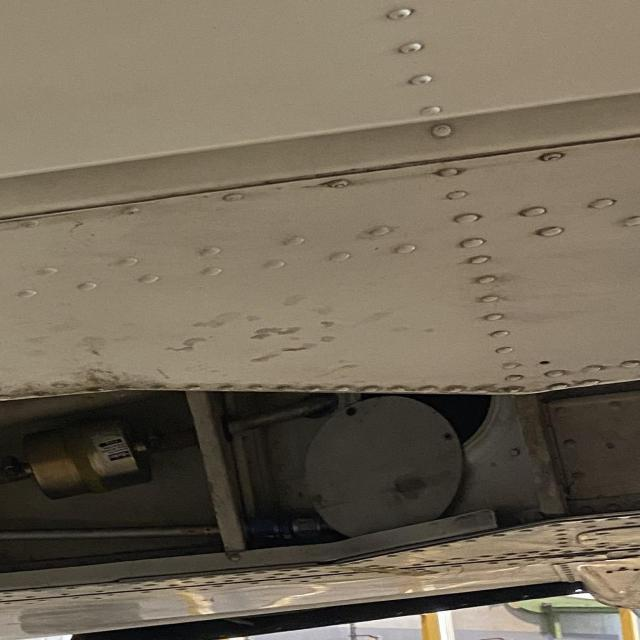Paint-off: (195, 311, 243, 329), (251, 344, 288, 365), (253, 326, 303, 340), (171, 337, 208, 352), (284, 297, 307, 309), (321, 336, 342, 344)
